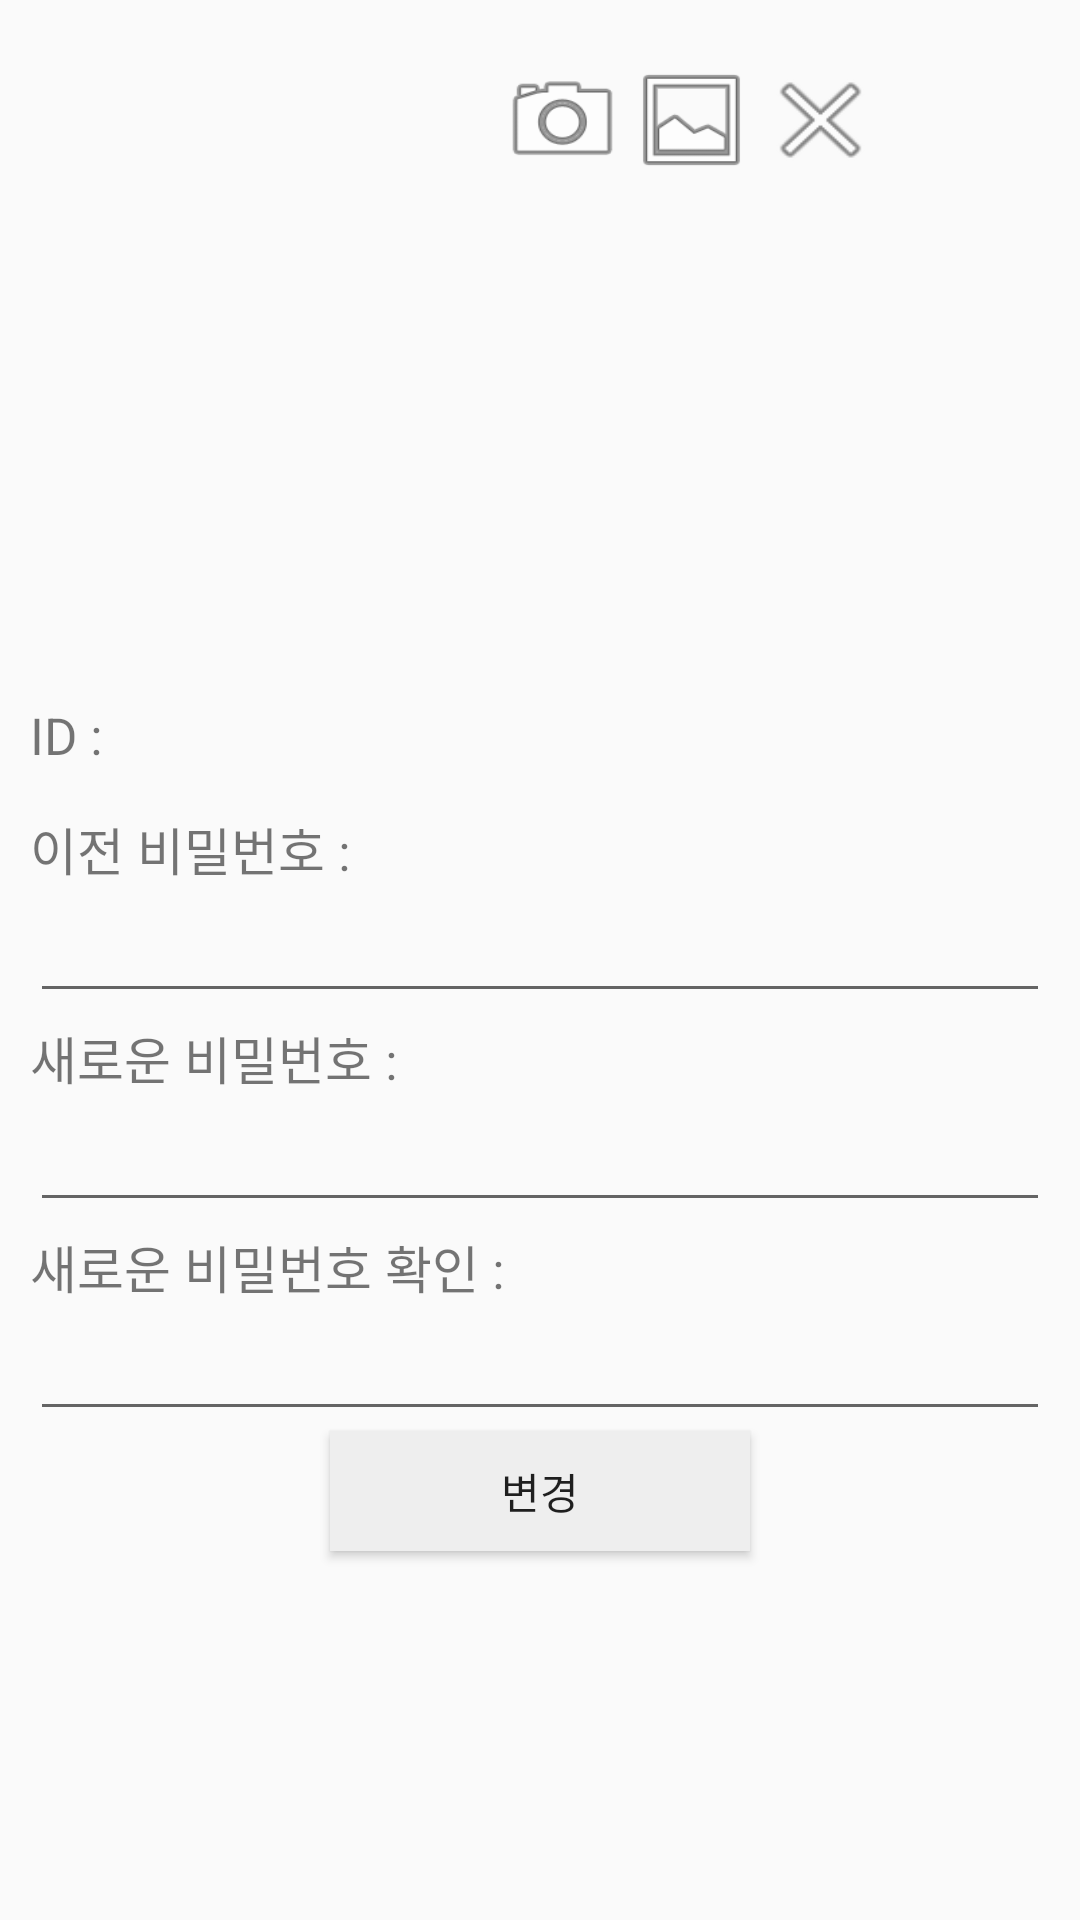

Screen size 1080px x 1920px. Icon name, then its box in pixels as bbox=[x1, y1, x2, y2]:
camera: bbox=[513, 81, 612, 155]
close clear cancel: bbox=[780, 82, 861, 158]
gallery: bbox=[643, 75, 740, 165]
